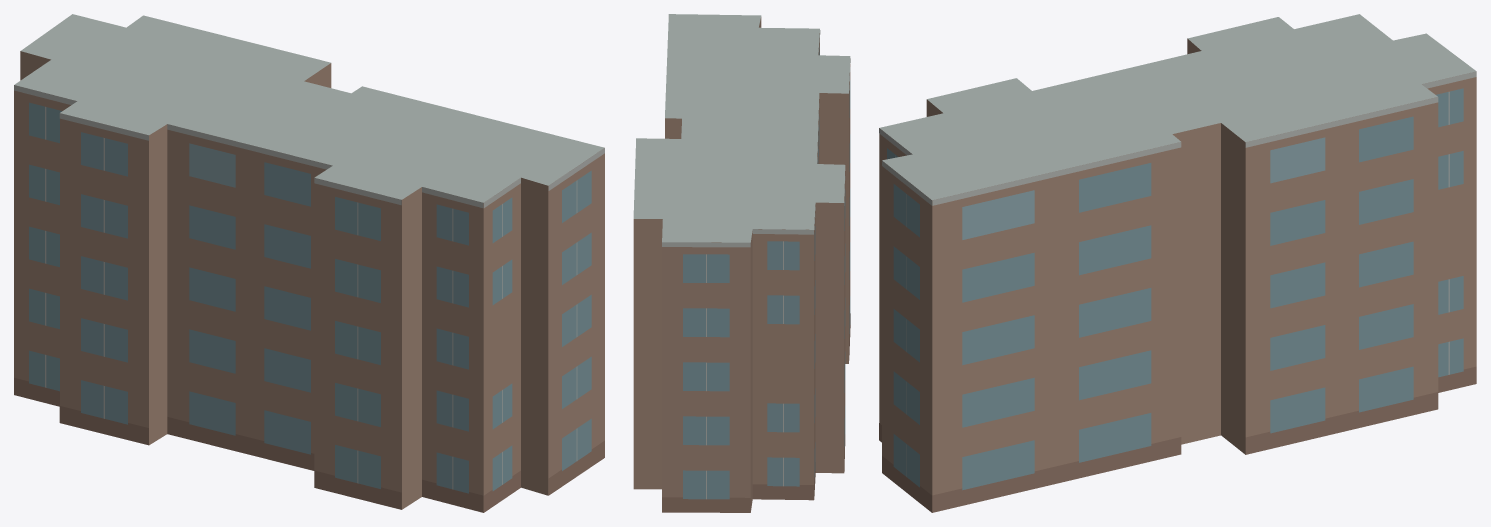
Rendered from survey-upis-32721924.glb.
3 renders of one model, left to right at view 1: azimuth 30°, elevation 25°; view 2: azimuth 150°, elevation 25°; view 3: azimuth 270°, elevation 25°, orthographic. The views are drawn at different scales.
Visible parts, largest first — view 1: survey-upis-32721924.tmp; view 2: survey-upis-32721924.tmp; view 3: survey-upis-32721924.tmp.
Boxes of the visible parts, x1,y1,x2,y2 form: survey-upis-32721924.tmp: [14, 14, 604, 512]; survey-upis-32721924.tmp: [633, 14, 850, 512]; survey-upis-32721924.tmp: [879, 14, 1476, 512].
Size of the model in its own units: 17.4 by 13.6 by 23.57.
